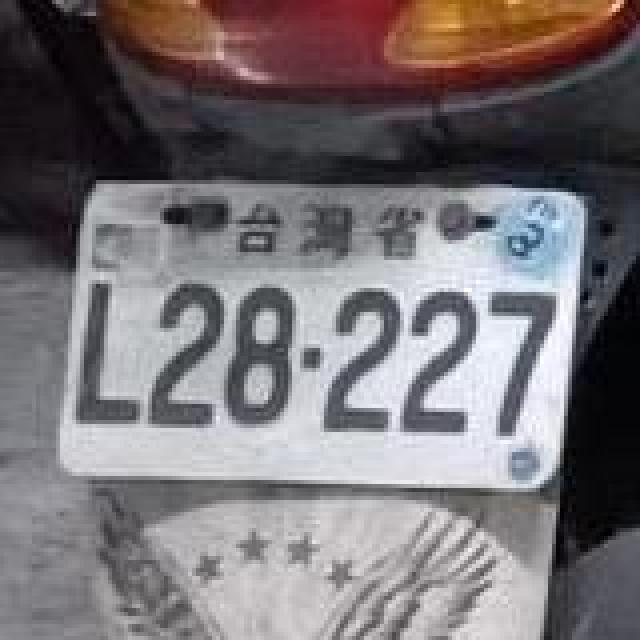W: (52, 166, 588, 498)
